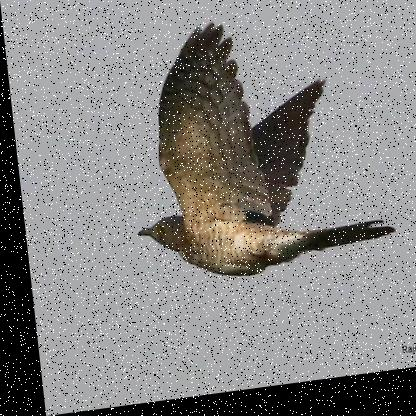Burung: (113, 11, 391, 293)
